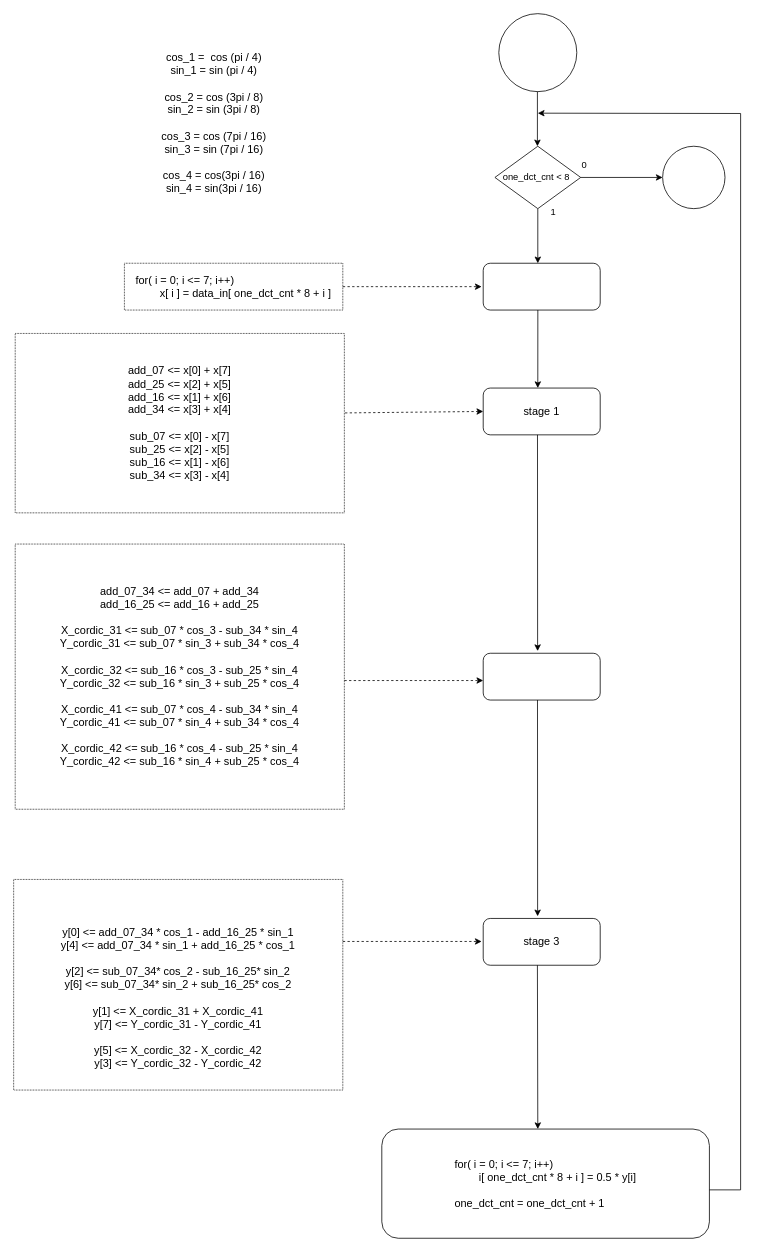
Image size: 761x1252. Some labels were removed from this diagram. The box of each missing label's shape, as (x1, y1, x2, y2) in pixels:
next_state: (662, 145, 725, 209)
stage 2: (482, 652, 600, 700)
start one_dct_cnt = 0: (498, 13, 577, 92)
write data to memory: (482, 262, 600, 310)
